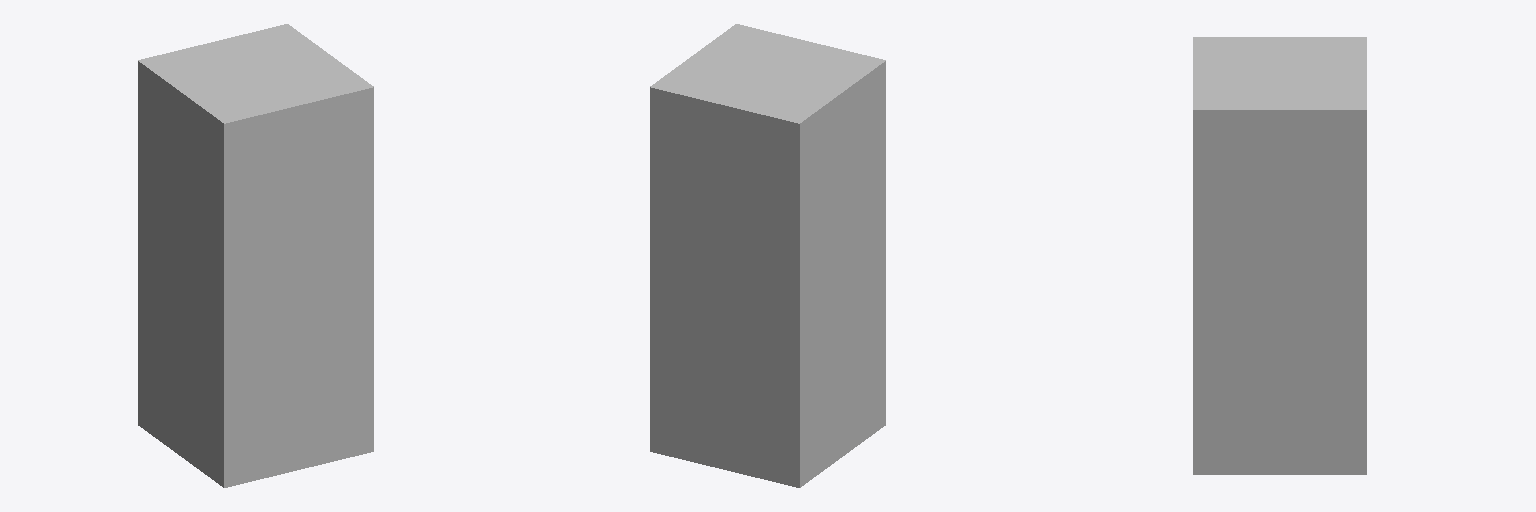
File: crate.obj
3 renders of one model, left to right at view 1: azimuth 30°, elevation 25°; view 2: azimuth 150°, elevation 25°; view 3: azimuth 270°, elevation 25°, orthographic.
Parts seen in each view (by area): view 1: Cube_Cube.001; view 2: Cube_Cube.001; view 3: Cube_Cube.001.
Part boxes in pixels (bbox=[...]): Cube_Cube.001: bbox=[138, 24, 373, 487]; Cube_Cube.001: bbox=[650, 24, 885, 487]; Cube_Cube.001: bbox=[1193, 37, 1366, 474].
Bounding box in the file's own units: 2 × 4.64 × 2.